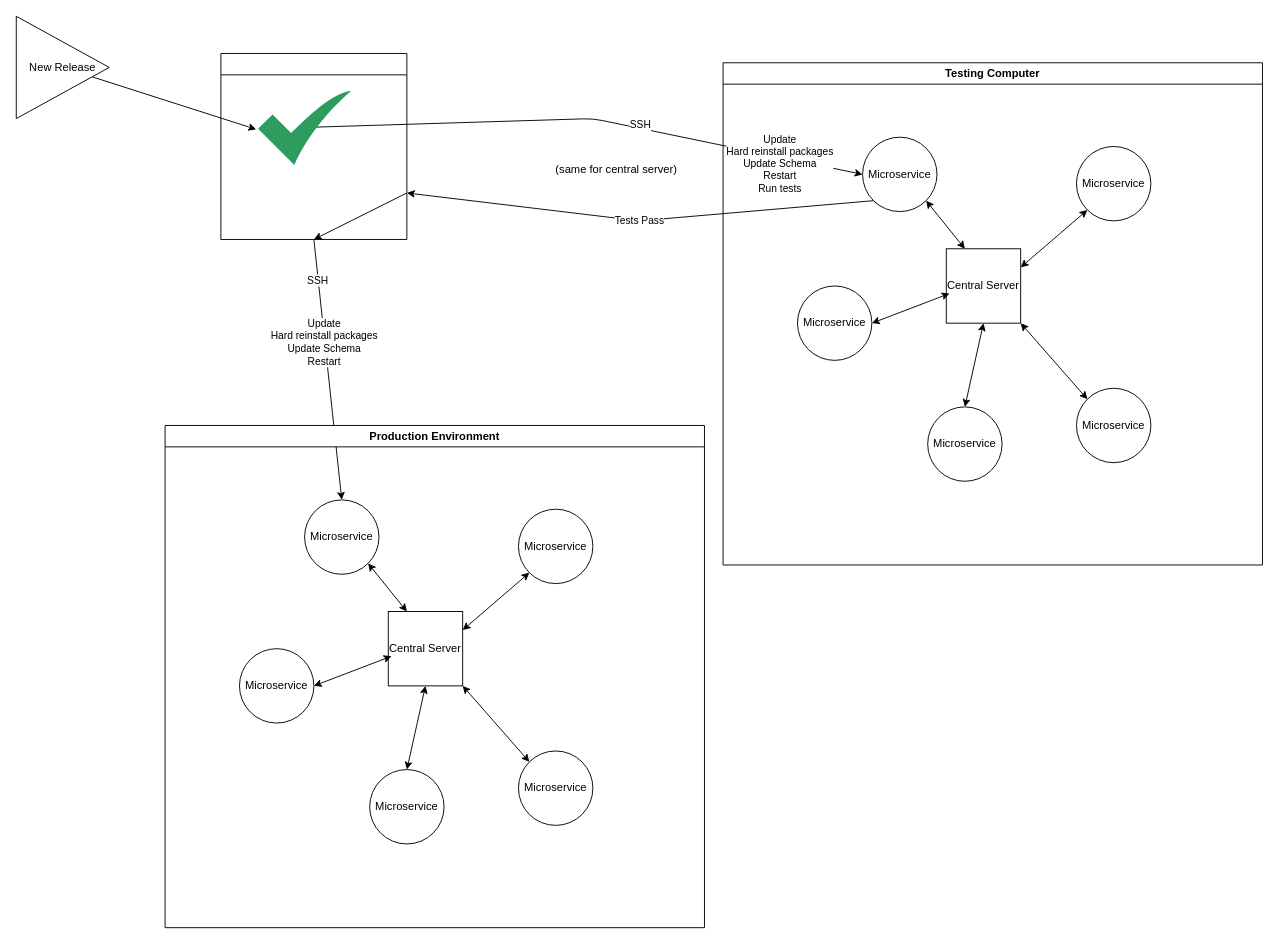
This 1279x944 diagram has some shape labels left out. The box of each missing label's shape, as (x1, y1, x2, y2) in pixels:
Checks Pass: (258, 90, 351, 165)
Github: (220, 53, 407, 239)
